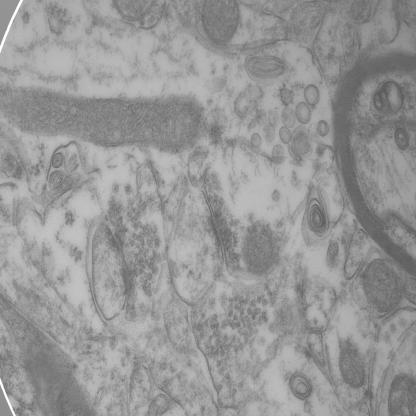mitochondria: (0, 82, 204, 156), (362, 257, 404, 317), (240, 216, 278, 276), (199, 0, 241, 51), (336, 335, 368, 391)
